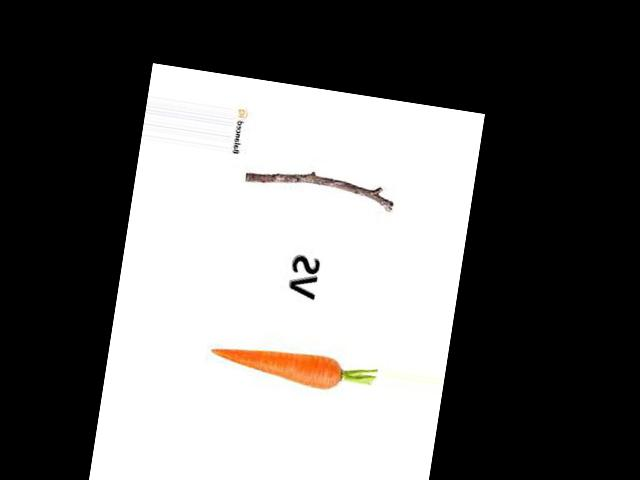carrot: (203, 329, 349, 398)
